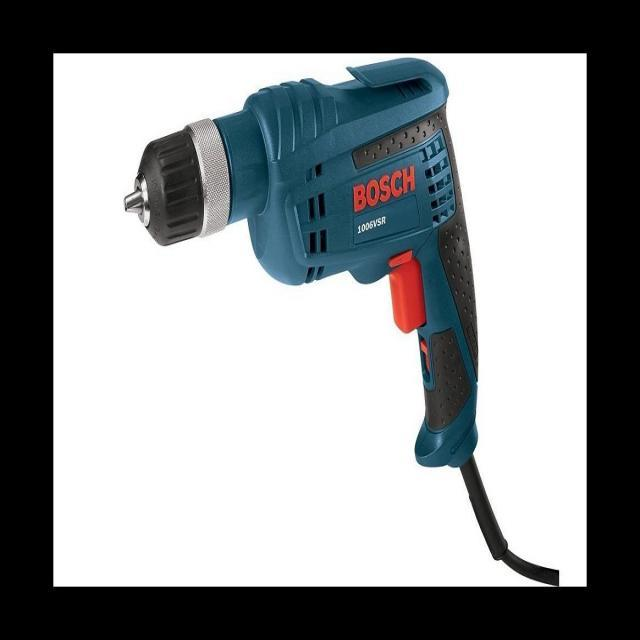drill: (124, 58, 508, 562)
